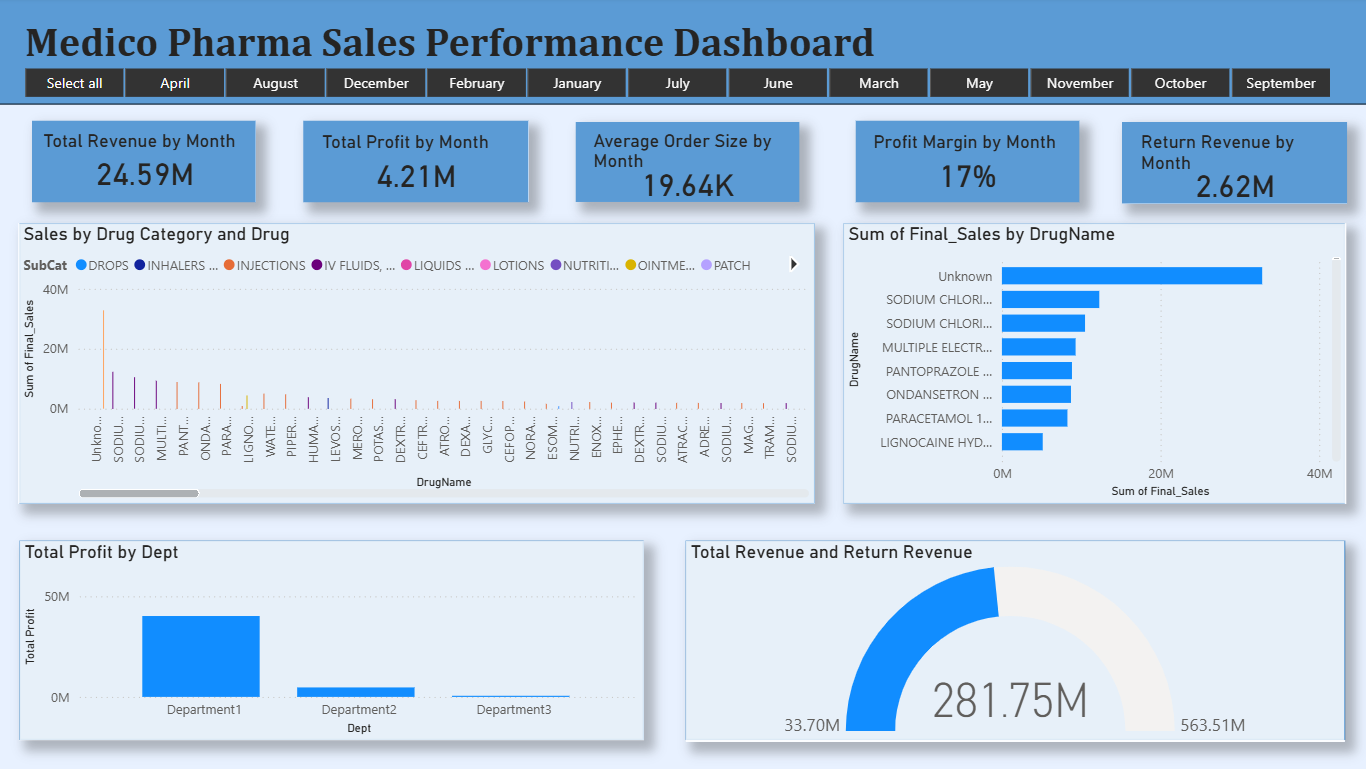

The dashboard page shown, as its layout file describes it:
{"tool":"powerbi","page":{"name":"Page 1","canvas":[1280,720],"ordinal":0},"visuals":[{"type":"shape","box":[0,0,1280.3,100.2],"z":0},{"type":"shape","box":[32.5,115.5,208.2,75.8],"z":1000},{"type":"shape","box":[20.6,209.9,739.6,260.7],"z":2000},{"type":"shape","box":[787.7,209.9,466.6,260.7],"z":3000},{"type":"shape","box":[640.8,506.3,613.4,185.2],"z":4000},{"type":"shape","box":[20.6,506.3,580.4,185.2],"z":5000},{"type":"barChart","fields":{"Category":["Sheet1.DrugName"],"Y":["Sum(Sheet1.Final_Sales)"]},"box":[787.7,209.9,467.9,260.7],"z":6000},{"type":"clusteredColumnChart","fields":{"Category":["Sheet1.Dept"],"Y":["Sheet1.Total Profit"]},"box":[20.6,506.3,580.4,185.2],"z":7000},{"type":"gauge","fields":{"Y":["Sheet1.Total Revenue"],"MinValue":["Sheet1.Return Revenue"]},"box":[640.7,505.8,612.8,187.2],"z":8000},{"type":"textbox","box":[20.9,15.1,802.3,64],"z":9000},{"type":"shape","box":[285.2,115.5,209.4,75.8],"z":10000},{"type":"shape","box":[537.8,116.7,208.2,74.6],"z":11000},{"type":"shape","box":[798.9,115.5,208.2,75.8],"z":12000},{"type":"shape","box":[1046.8,116.7,209.4,75.8],"z":13000},{"type":"kpi","fields":{"Indicator":["Sheet1.Total Profit"],"TrendLine":["Sheet1.Month"]},"box":[297.2,123.9,185.3,62.6],"z":14000},{"type":"kpi","fields":{"Indicator":["Sheet1.Total Revenue"],"TrendLine":["Sheet1.Month"]},"box":[38.5,122.7,198.5,62.6],"z":15000},{"type":"kpi","fields":{"Indicator":["Sheet1.Average Order Size"],"TrendLine":["Sheet1.Month"]},"box":[549.9,122.7,185.3,62.6],"z":16000},{"type":"kpi","fields":{"Indicator":["Sheet1.Profit Margin"],"TrendLine":["Sheet1.Month"]},"box":[811,123.9,185.3,62.6],"z":17000},{"type":"kpi","fields":{"Indicator":["Sheet1.Return Revenue"],"TrendLine":["Sheet1.Month"]},"box":[1058.8,123.9,185.3,62.6],"z":18000},{"type":"slicer","fields":{"Values":["Sheet1.Month"]},"box":[0,59.3,1264,40.7],"z":19000},{"type":"clusteredColumnChart","title":"Sales by Drug Category and Drug","fields":{"Category":["Sheet1.DrugName"],"Y":["Sum(Sheet1.Final_Sales)"],"Series":["Sheet1.SubCat"]},"box":[19.8,210.5,740.7,260.5],"z":20000}]}

Visuals, with their boxes in screenshot pixels (x1, y1, x2, y2), scaled from the page's 1280x720 canvas onto the 1366x769 screenshot:
shape: (0,0,1365,107)
shape: (35,123,257,204)
shape: (22,224,811,503)
shape: (841,224,1339,503)
shape: (684,541,1338,739)
shape: (22,541,641,739)
barChart - Sheet1.DrugName x Sum(Sheet1.Final_Sales): (841,224,1340,503)
clusteredColumnChart - Sheet1.Dept x Sheet1.Total Profit: (22,541,641,739)
gauge - Sheet1.Total Revenue x Sheet1.Return Revenue: (684,540,1338,740)
textbox: (22,16,879,84)
shape: (304,123,528,204)
shape: (574,125,796,204)
shape: (853,123,1075,204)
shape: (1117,125,1341,206)
kpi - Sheet1.Total Profit x Sheet1.Month: (317,132,515,199)
kpi - Sheet1.Total Revenue x Sheet1.Month: (41,131,253,198)
kpi - Sheet1.Average Order Size x Sheet1.Month: (587,131,785,198)
kpi - Sheet1.Profit Margin x Sheet1.Month: (865,132,1063,199)
kpi - Sheet1.Return Revenue x Sheet1.Month: (1130,132,1328,199)
slicer - Sheet1.Month: (0,63,1349,107)
"Sales by Drug Category and Drug" clusteredColumnChart: (21,225,812,503)
